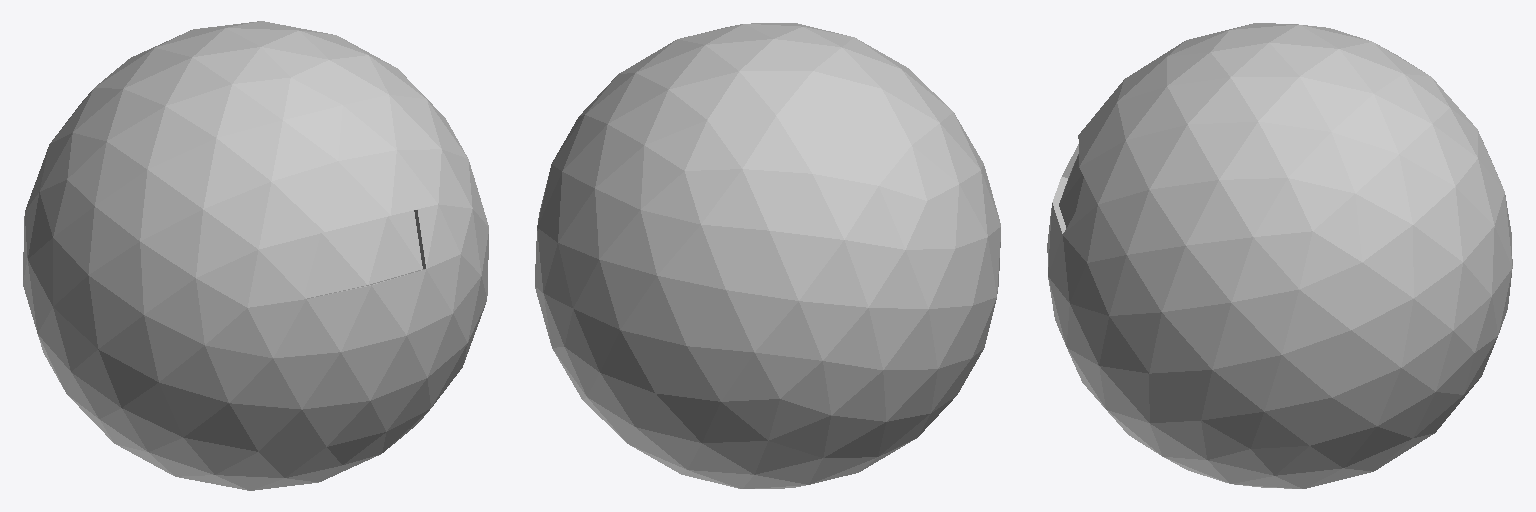
Rendered from eight-ball.obj.
3 views of the same model, side by side, from view 1: azimuth 30°, elevation 25°; view 2: azimuth 150°, elevation 25°; view 3: azimuth 270°, elevation 25° (orthographic).
Visible parts, largest first — view 1: Icosphere; view 2: Icosphere; view 3: Icosphere.
Boxes of the visible parts, <box> form: Icosphere: <box>23,21,488,490</box>; Icosphere: <box>535,23,1000,488</box>; Icosphere: <box>1047,23,1512,488</box>.
Bounding box in the file's own units: 1.83 × 1.83 × 1.81.